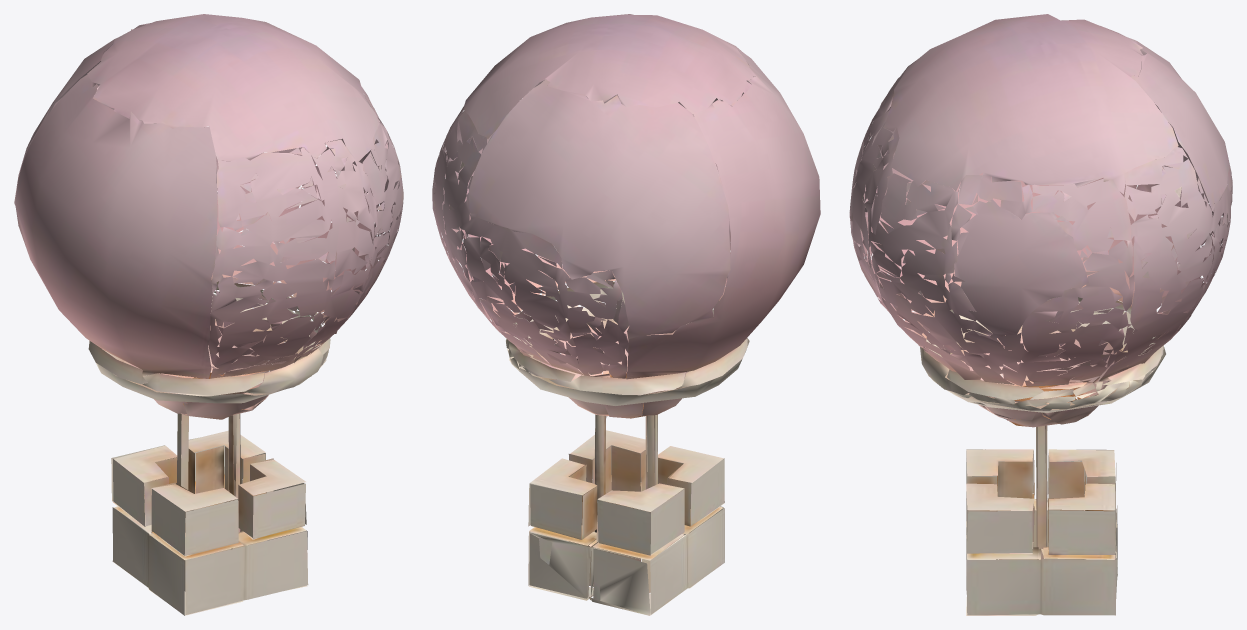
The model's file is balloon2.glb.
3 views of the same model, side by side, from view 1: azimuth 30°, elevation 25°; view 2: azimuth 150°, elevation 25°; view 3: azimuth 270°, elevation 25° (orthographic).
Parts seen in each view (by area): view 1: node_0; view 2: node_0; view 3: node_0.
Boxes of the visible parts, x1,y1,x2,y2 form: node_0: (14,14,403,615); node_0: (432,14,820,615); node_0: (849,14,1232,615).
Size of the model in its own units: 1.43 by 2.2 by 1.38.
Materials: 1 (1 with a texture image).
